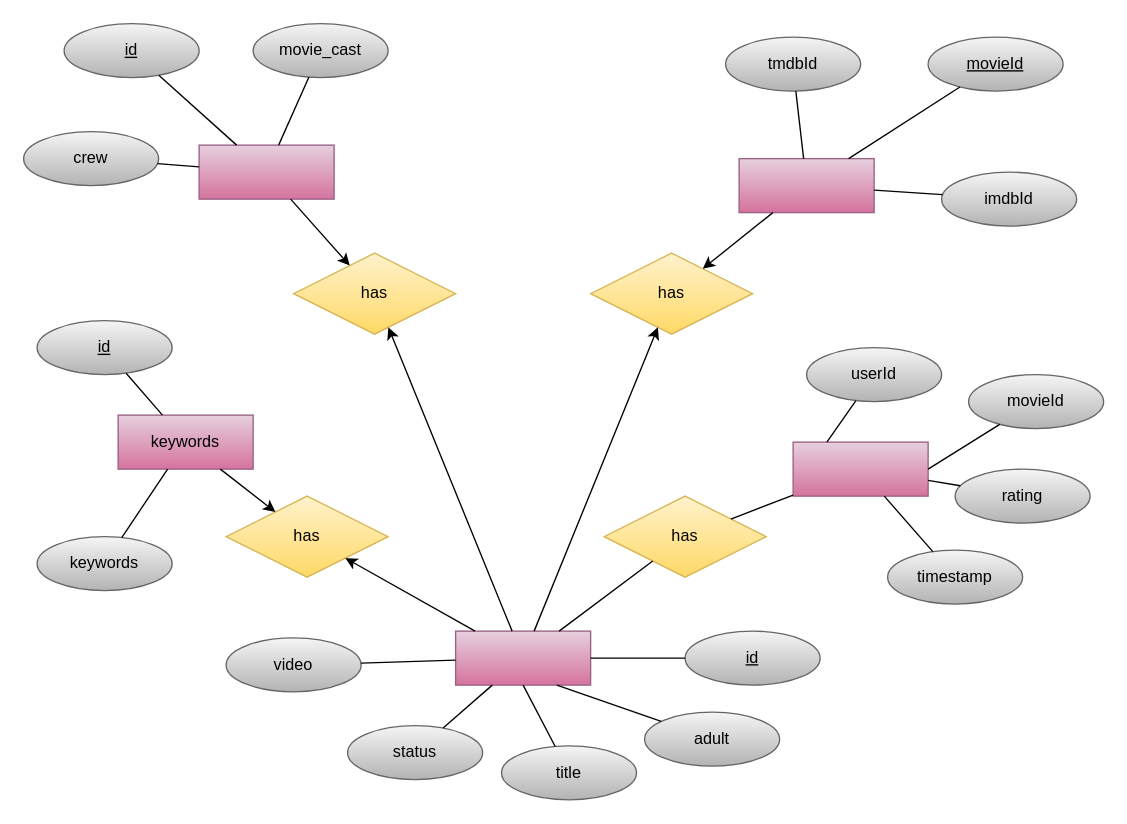
This 1127x824 diagram has some shape labels left out. The shapes that lost their labels are listed below. From the top down, each one's centre as x and y in pixels, then its label:
point (266, 171): credits
point (806, 185): links
point (860, 468): ratings_small
point (522, 657): movies_metadata
